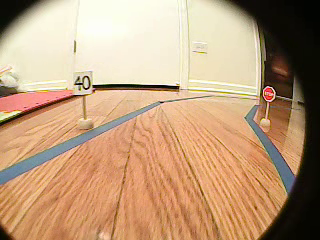Speed Limit 40: (74, 70, 93, 95)
Stop Sign: (262, 85, 276, 103)
